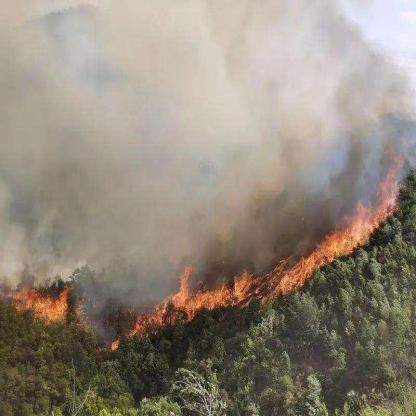Fire: (0, 145, 407, 352)
